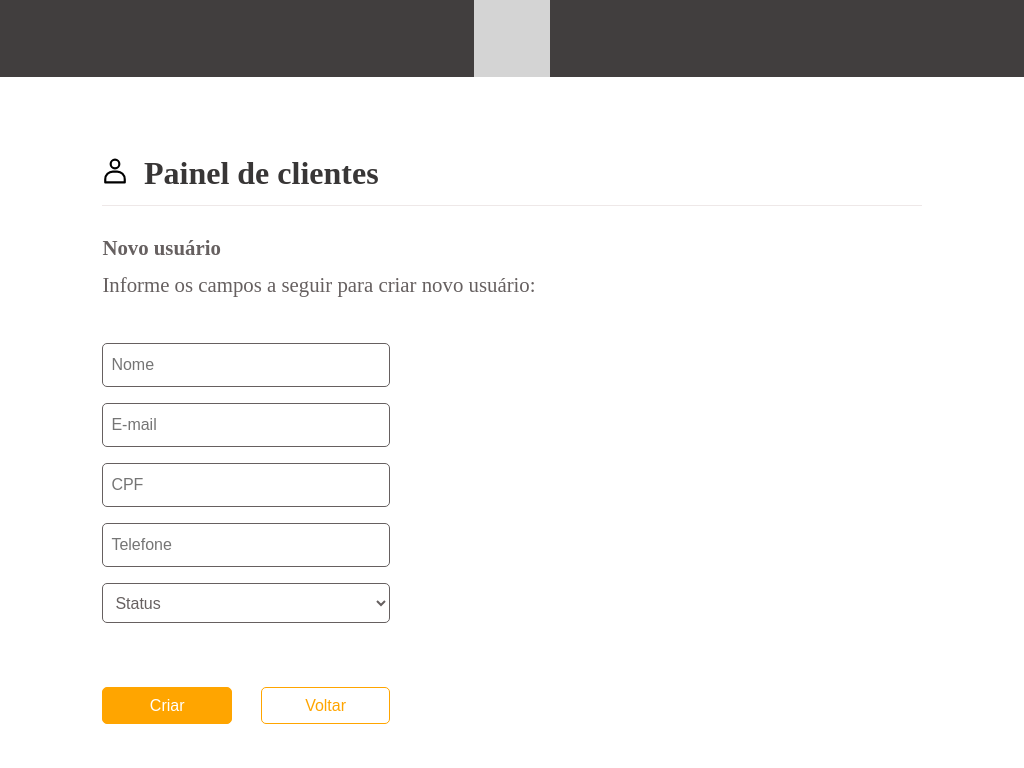
Testando a página de criar usuário › Verifica se as mensagens de erro aparecem corretamente
Type "joao@uol" into the field with placeholder "E-mail".
click(246, 425); type("joao@uol")  # box 102,403 -> 390,447
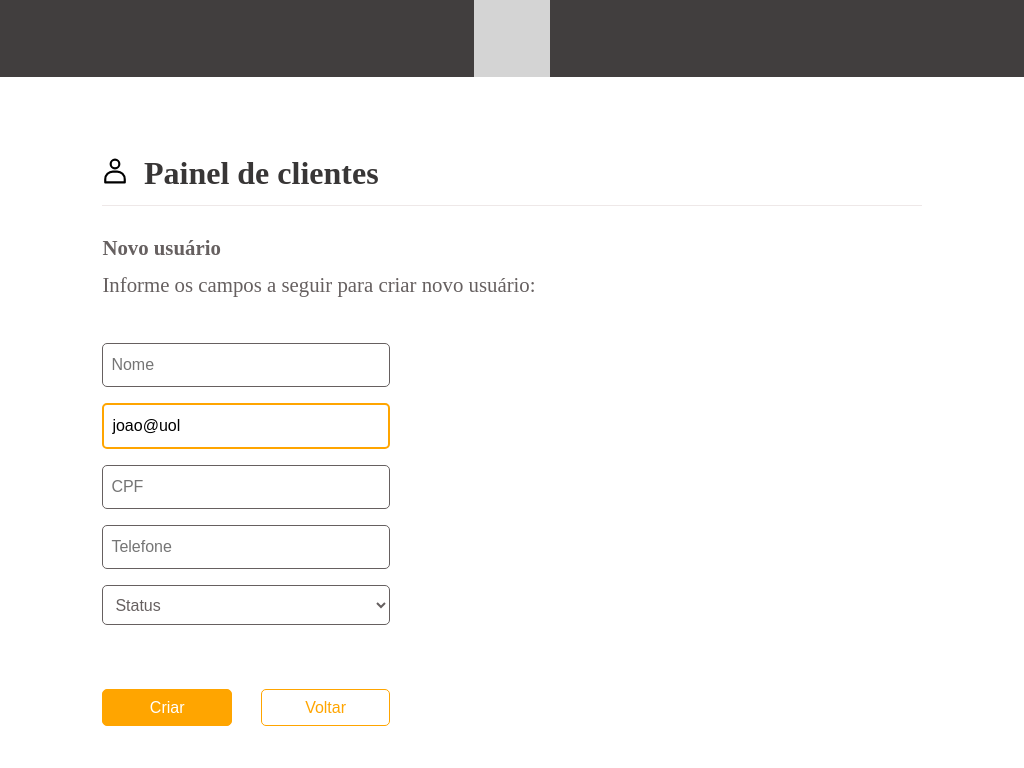
Type "123456789" into the field with placeholder "CPF".
click(246, 487); type("123456789")  # box 102,465 -> 390,509
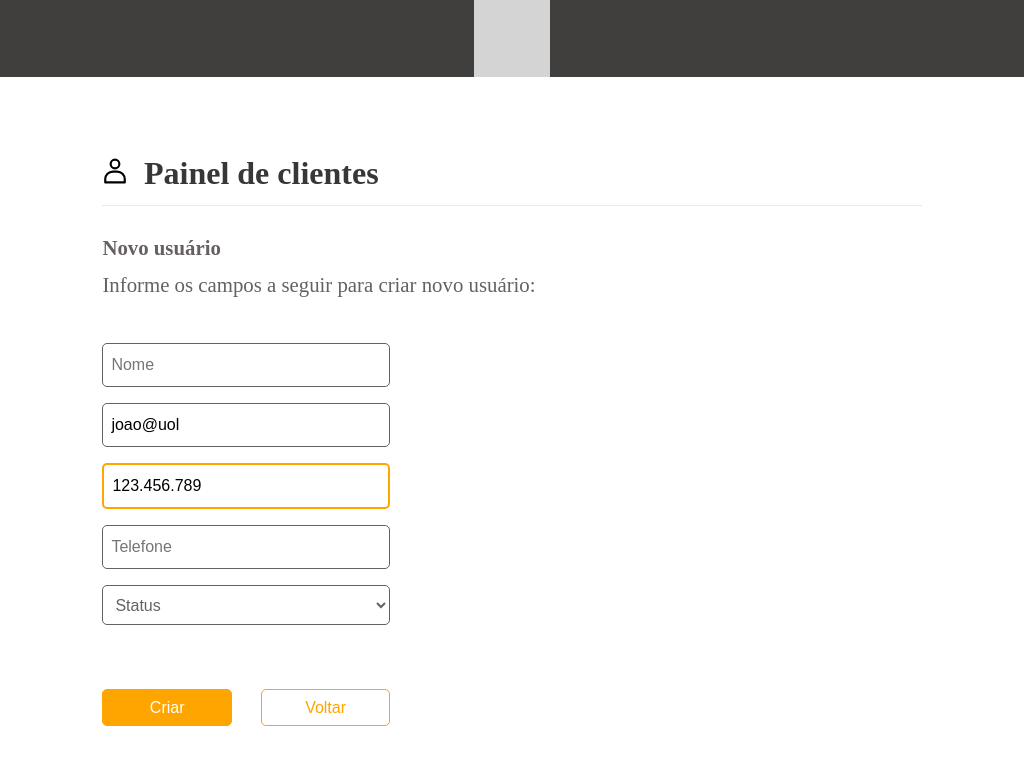
Type "32916744" into the field with placeholder "Telefone".
click(246, 547); type("32916744")  # box 102,525 -> 390,569
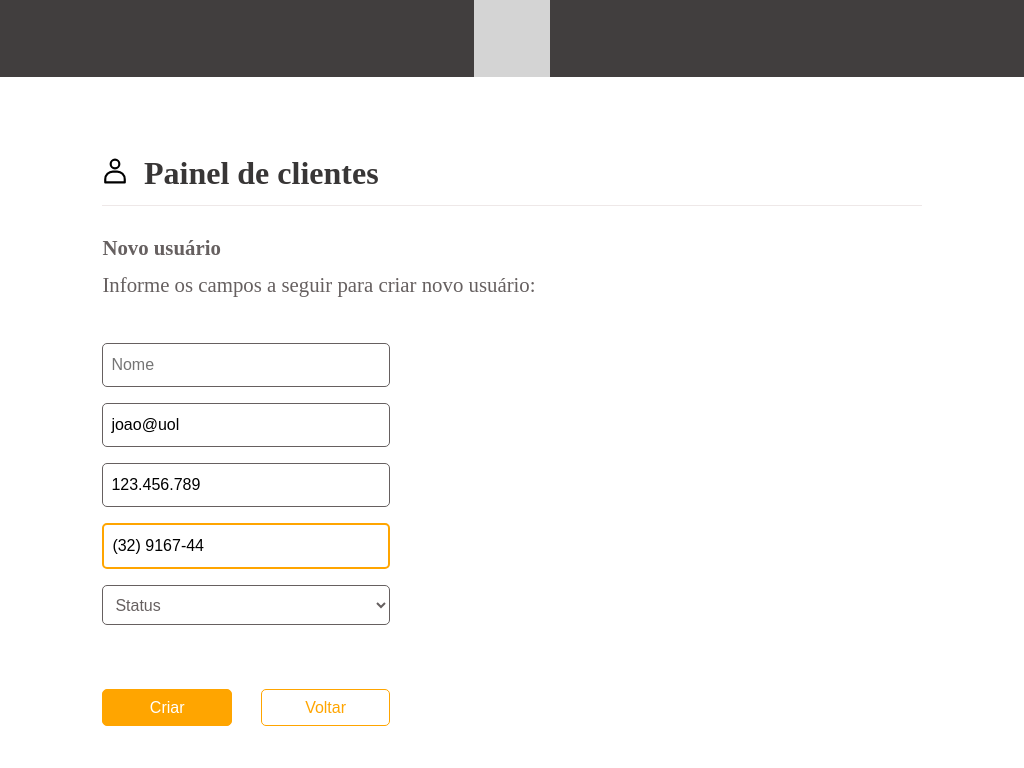
Click the button "Criar".
click(167, 708)  # box 102,689 -> 232,726
(page scrolled)
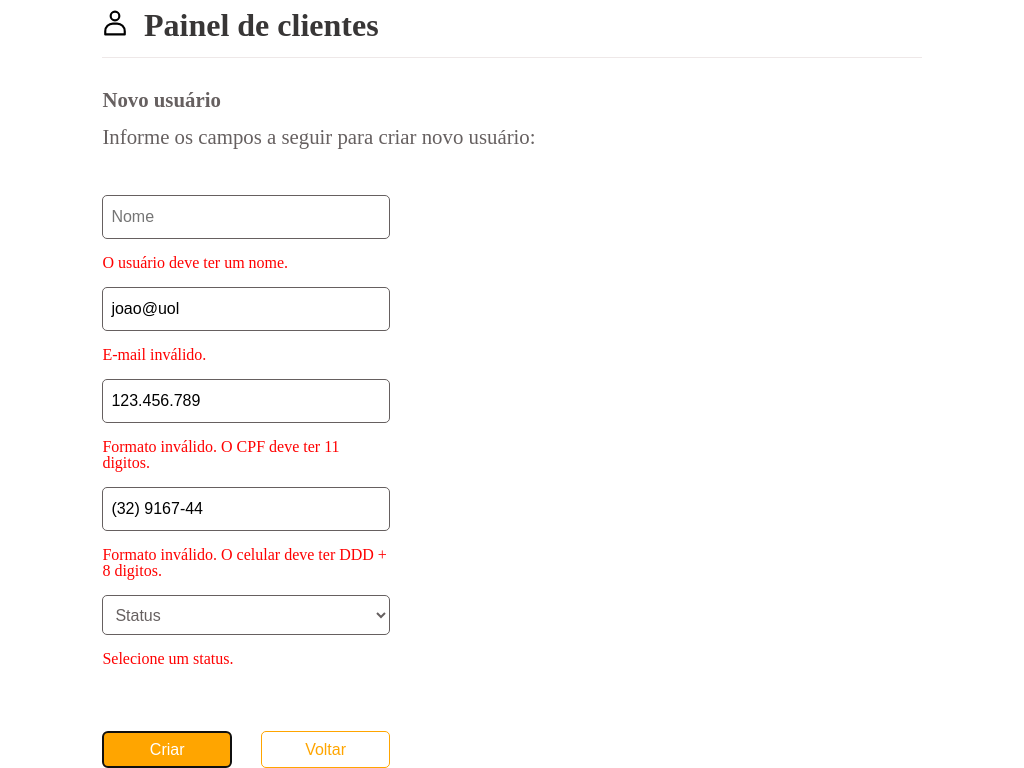
Expected: the text "O usuário deve ter um nome." is shown, 102,254 -> 288,271
Expected: the text "E-mail inválido." is shown, 102,346 -> 206,363
Expected: the text "Formato inválido. O CPF deve ter 11 digitos." is shown, 102,438 -> 340,471
